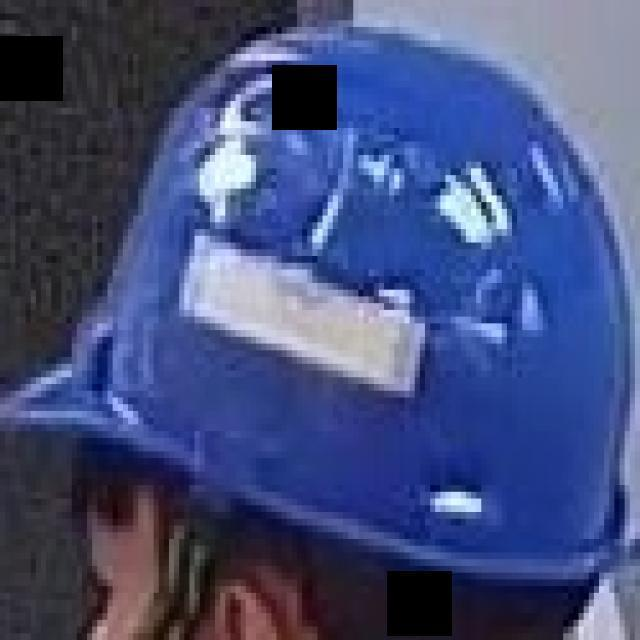blue helmet: (1, 21, 626, 592)
